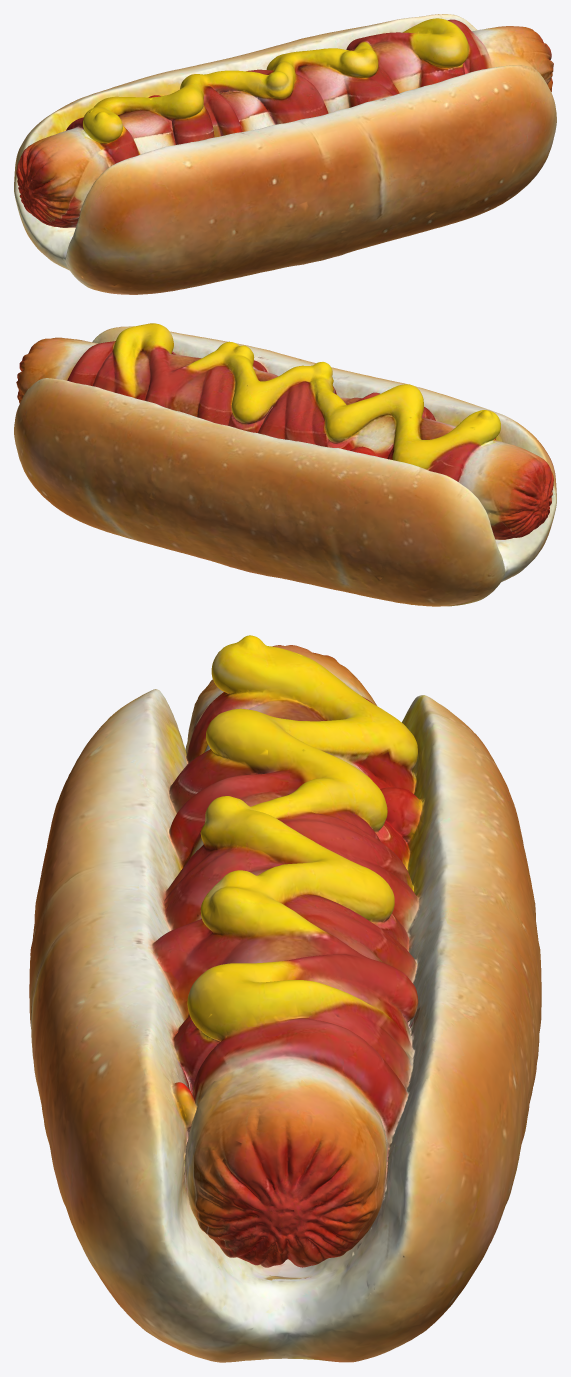
File: perroCaliente.glb
3 renders of one model, top to bottom at view 1: azimuth 30°, elevation 25°; view 2: azimuth 150°, elevation 25°; view 3: azimuth 270°, elevation 25°, orthographic. The views are drawn at different scales.
Size of the model in its own units: 1.9 by 0.6482 by 0.8107.
Materials: 1 (1 with a texture image).
